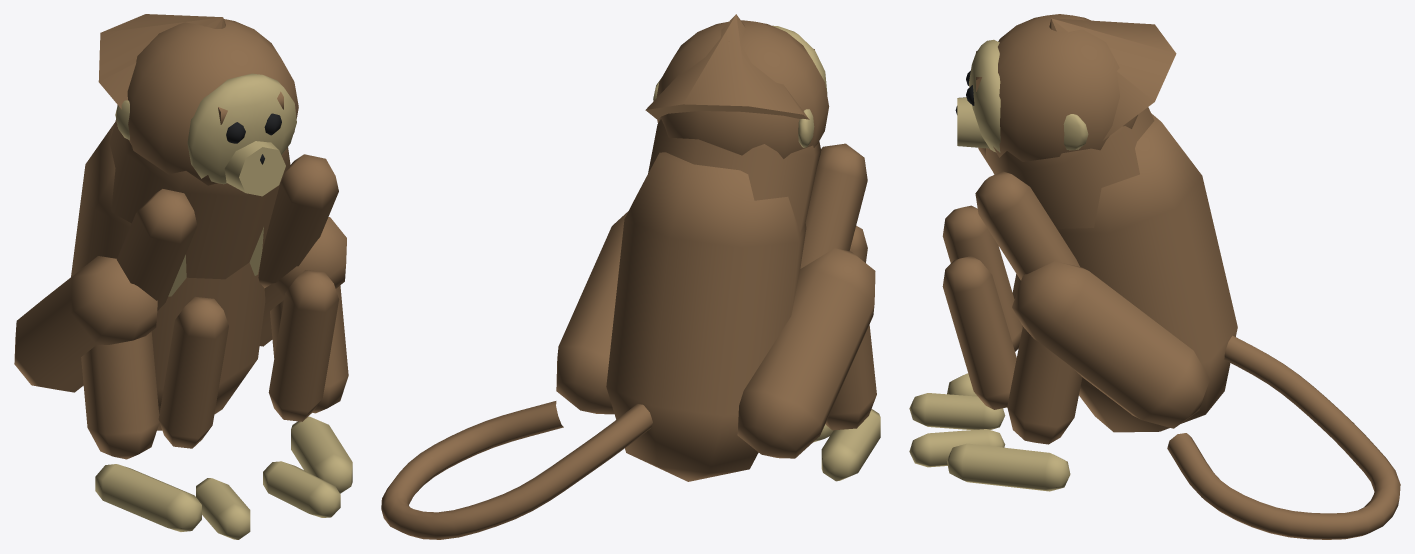
File: long-tailed-macaque-sitting.glb
3 views of the same model, side by side, from view 1: azimuth 30°, elevation 25°; view 2: azimuth 150°, elevation 25°; view 3: azimuth 270°, elevation 25° (orthographic). The views are drawn at different scales.
Visible parts, largest first — view 1: Mesh_Head, Mesh_LowerTorso, Mesh_ThighLeft, Mesh_UpperTorso, Mesh_ShinLeft, Mesh_ForearmRight, Mesh_ForearmLeft, Mesh_Face, Mesh_UpperArmRight, Mesh_UpperArmLeft, Mesh_FootLeft, Mesh_HairCap (+8 smaller); view 2: Mesh_LowerTorso, Mesh_ThighLeft, Mesh_Tail, Mesh_Head, Mesh_ThighRight, Mesh_HairCap, Mesh_UpperTorso, Mesh_UpperArmLeft, Mesh_ShinLeft, Mesh_FootLeft; view 3: Mesh_LowerTorso, Mesh_ThighRight, Mesh_Head, Mesh_Tail, Mesh_UpperTorso, Mesh_ForearmRight, Mesh_UpperArmRight, Mesh_ShinRight, Mesh_HairCap, Mesh_FootRight, Mesh_ForearmLeft, Mesh_HandLeft (+4 smaller).
Part boxes in pixels (x1,y1,x2,y2): Mesh_Head: (117,19,298,185); Mesh_LowerTorso: (71,123,265,430); Mesh_ThighLeft: (14,256,157,392); Mesh_UpperTorso: (109,119,290,279); Mesh_ShinLeft: (81,331,159,459); Mesh_ForearmRight: (268,270,339,421); Mesh_ForearmLeft: (158,296,228,448); Mesh_Face: (187,73,296,184); Mesh_UpperArmRight: (258,154,338,288); Mesh_UpperArmLeft: (116,189,197,310); Mesh_FootLeft: (95,464,201,531); Mesh_HairCap: (98,14,225,109); Mesh_LowerTorso: (606,152,806,481); Mesh_ThighLeft: (737,248,875,458); Mesh_Tail: (381,401,652,539); Mesh_Head: (656,20,829,158); Mesh_ThighRight: (556,211,628,414); Mesh_HairCap: (645,14,809,119); Mesh_UpperTorso: (648,119,821,232); Mesh_UpperArmLeft: (800,143,867,268); Mesh_ShinLeft: (825,325,876,430); Mesh_FootLeft: (821,409,880,481); Mesh_LowerTorso: (1057,113,1237,432); Mesh_ThighRight: (1012,261,1209,428); Mesh_Head: (993,14,1137,161); Mesh_Tail: (1167,335,1400,539); Mesh_UpperTorso: (986,107,1154,228); Mesh_ForearmRight: (942,256,1016,409); Mesh_UpperArmRight: (975,171,1079,280); Mesh_ShinRight: (1007,327,1082,444); Mesh_HairCap: (1049,18,1176,140); Mesh_FootRight: (946,443,1070,491); Mesh_ForearmLeft: (942,205,1022,351); Mesh_HandLeft: (909,393,1005,429).
Bounding box in the file's own units: 0.4668 × 0.5602 × 0.5751.
